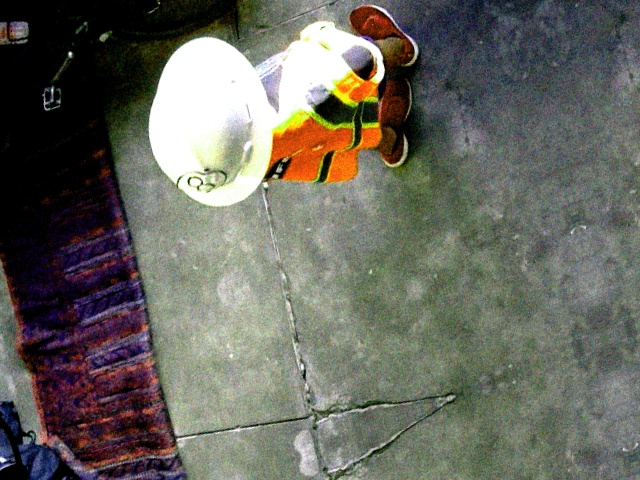eight: (170, 156, 227, 204)
